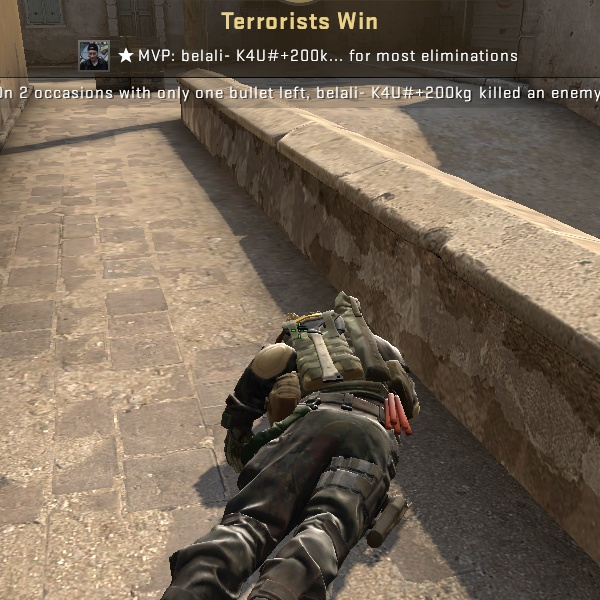ct_body: (197, 281, 434, 588)
